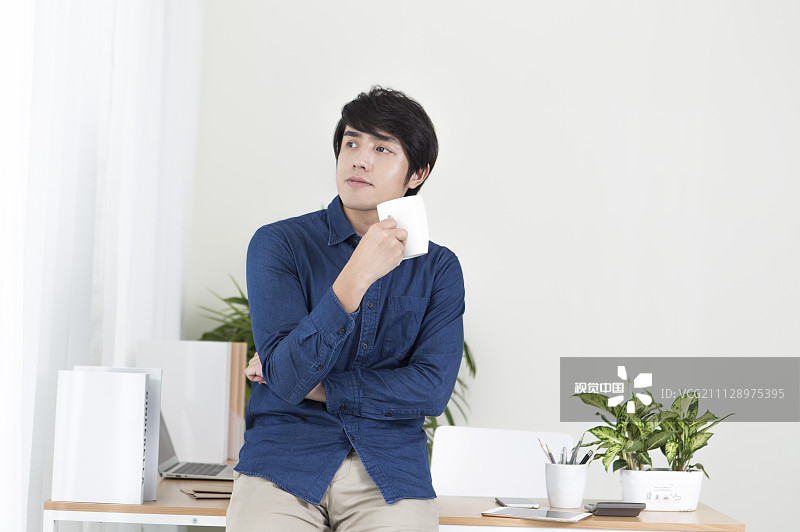no-phone: (334, 204, 420, 307)
